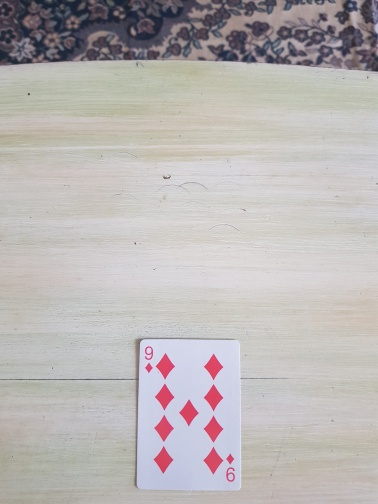nine: (134, 338, 244, 492)
